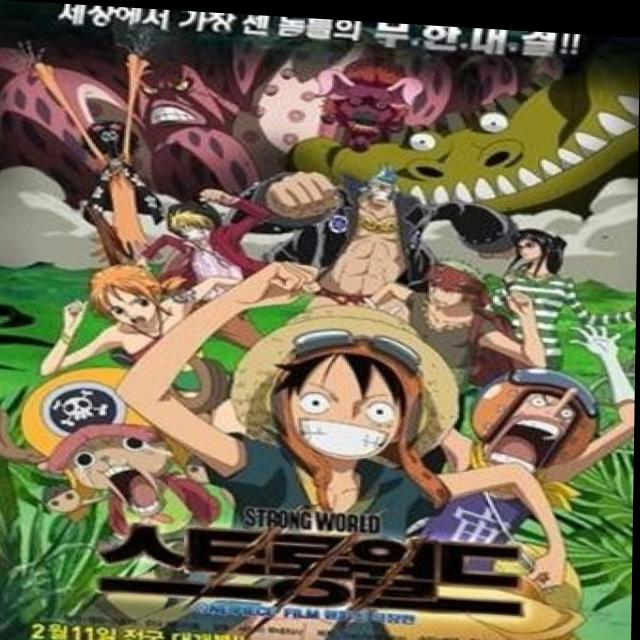Chyopa: (0, 346, 213, 554)
Franky: (364, 152, 399, 208)
Luffy: (224, 301, 466, 474)
Nami: (87, 255, 195, 348)
NicoRobin: (497, 220, 578, 275)
Sangdi: (167, 204, 227, 248)
Usopp: (468, 354, 614, 480)
Zoro: (423, 240, 500, 310)
